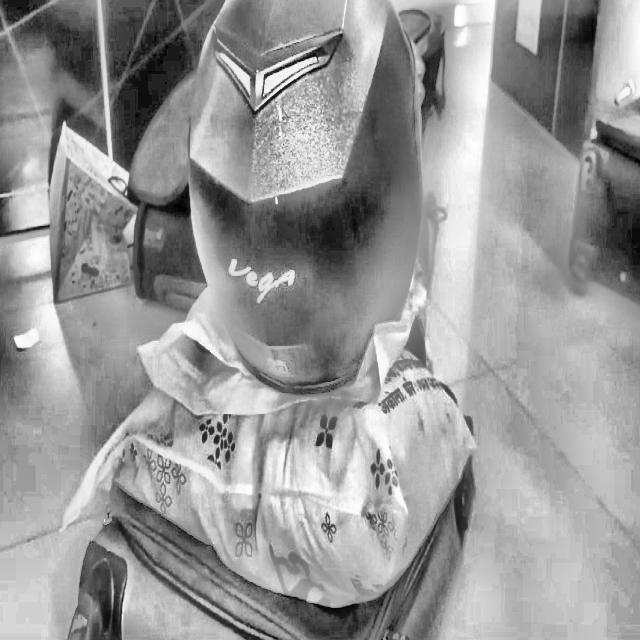Helmet: (185, 0, 438, 401)
